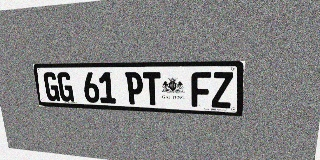1: (98, 72, 116, 104)
6: (82, 72, 100, 103)
F: (191, 72, 211, 107)
G: (57, 72, 74, 102), (43, 72, 60, 101)
P: (125, 72, 144, 105)
T: (143, 72, 161, 105)
Z: (211, 72, 233, 108)
